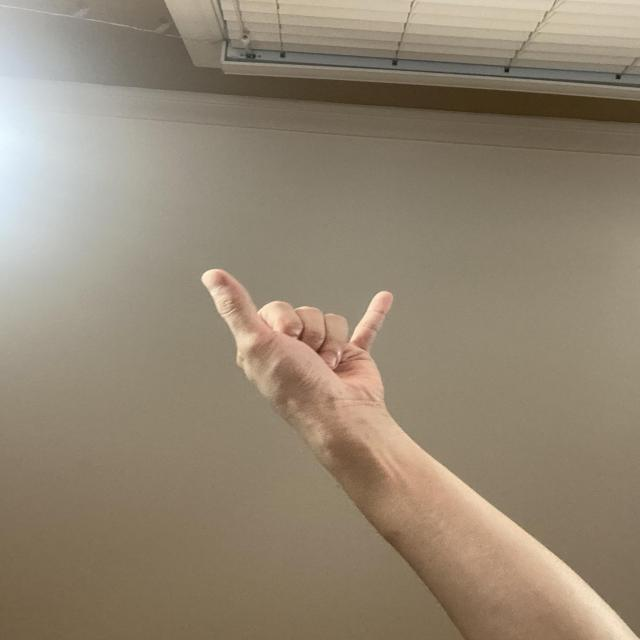Y: (194, 258, 403, 457)
